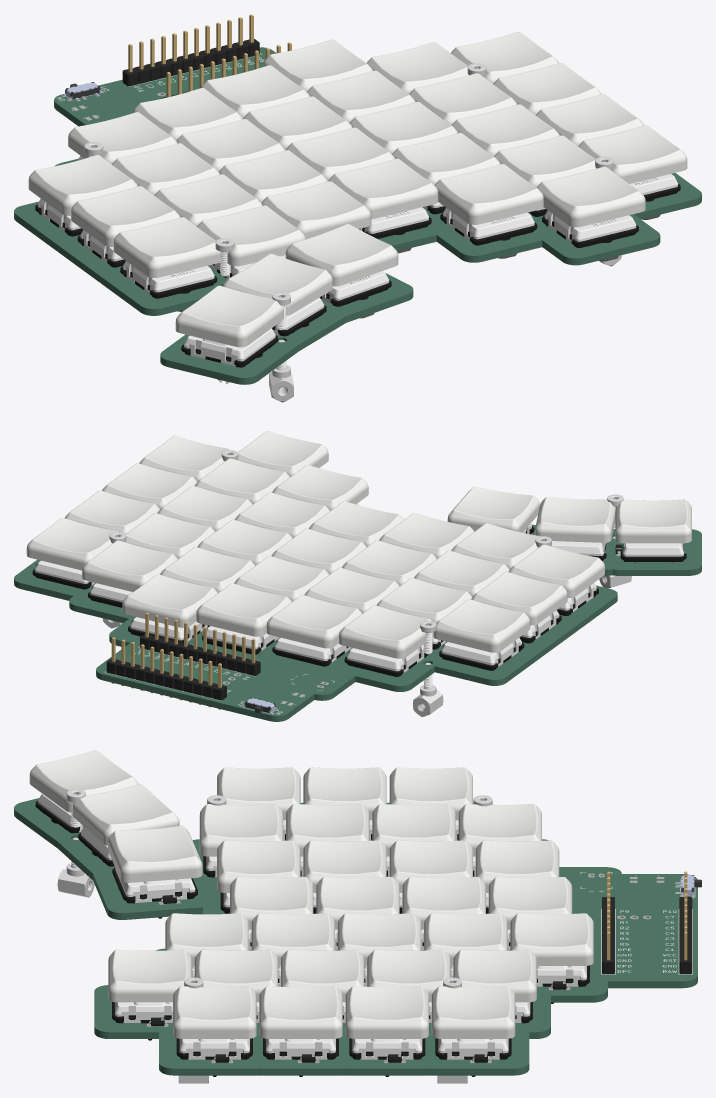
Rendered from right_pcb-3d.glb.
3 renders of one model, top to bottom at view 1: azimuth 30°, elevation 25°; view 2: azimuth 150°, elevation 25°; view 3: azimuth 270°, elevation 25°, orthographic. The views are drawn at different scales.
Parts seen in each view (by area): view 1: =>[0:1:1:15], KC32, KC10, KC27, KC5, KC30, KC15, KC1, H1, KC19, KC23, KC29 (+33 smaller); view 2: =>[0:1:1:15], KC29, KC32, KC26, KC31, KC22, KC18, H1, KC14, KC9, KC30, KC4 (+35 smaller); view 3: =>[0:1:1:15], KC30, KC4, KC3, KC2, KC1, KC5, KC14, KC31, KC32, KC9, KC23 (+35 smaller).
Boxes of the visible parts, bbox=[...] form: =>[0:1:1:15]: bbox=[14, 47, 701, 384]; KC32: bbox=[175, 285, 283, 347]; KC10: bbox=[435, 164, 543, 224]; KC27: bbox=[113, 217, 221, 277]; KC5: bbox=[536, 166, 645, 227]; KC30: bbox=[285, 224, 398, 286]; KC15: bbox=[329, 158, 438, 219]; KC1: bbox=[578, 125, 687, 183]; H1: bbox=[122, 14, 259, 86]; KC19: bbox=[261, 181, 371, 239]; KC23: bbox=[197, 205, 305, 266]; KC29: bbox=[28, 155, 137, 215]; =>[0:1:1:15]: bbox=[14, 524, 701, 721]; KC29: bbox=[433, 599, 530, 652]; KC32: bbox=[615, 499, 691, 543]; KC26: bbox=[339, 605, 433, 658]; KC31: bbox=[535, 497, 615, 542]; KC22: bbox=[266, 595, 362, 648]; KC18: bbox=[196, 583, 291, 636]; H1: bbox=[106, 637, 226, 709]; KC14: bbox=[122, 574, 217, 627]; KC9: bbox=[82, 540, 177, 591]; KC30: bbox=[447, 486, 539, 532]; KC4: bbox=[26, 518, 117, 570]; =>[0:1:1:15]: bbox=[14, 798, 697, 1075]; KC30: bbox=[108, 825, 202, 882]; KC4: bbox=[431, 986, 515, 1038]; KC3: bbox=[345, 986, 428, 1038]; KC2: bbox=[259, 986, 342, 1038]; KC1: bbox=[173, 986, 256, 1038]; KC5: bbox=[108, 949, 191, 1002]; KC14: bbox=[510, 913, 593, 965]; KC31: bbox=[72, 784, 179, 845]; KC32: bbox=[29, 750, 138, 812]; KC9: bbox=[453, 949, 536, 1002]; KC23: bbox=[199, 804, 283, 856].
Bounding box in the file's own units: 133 × 22.27 × 136.
